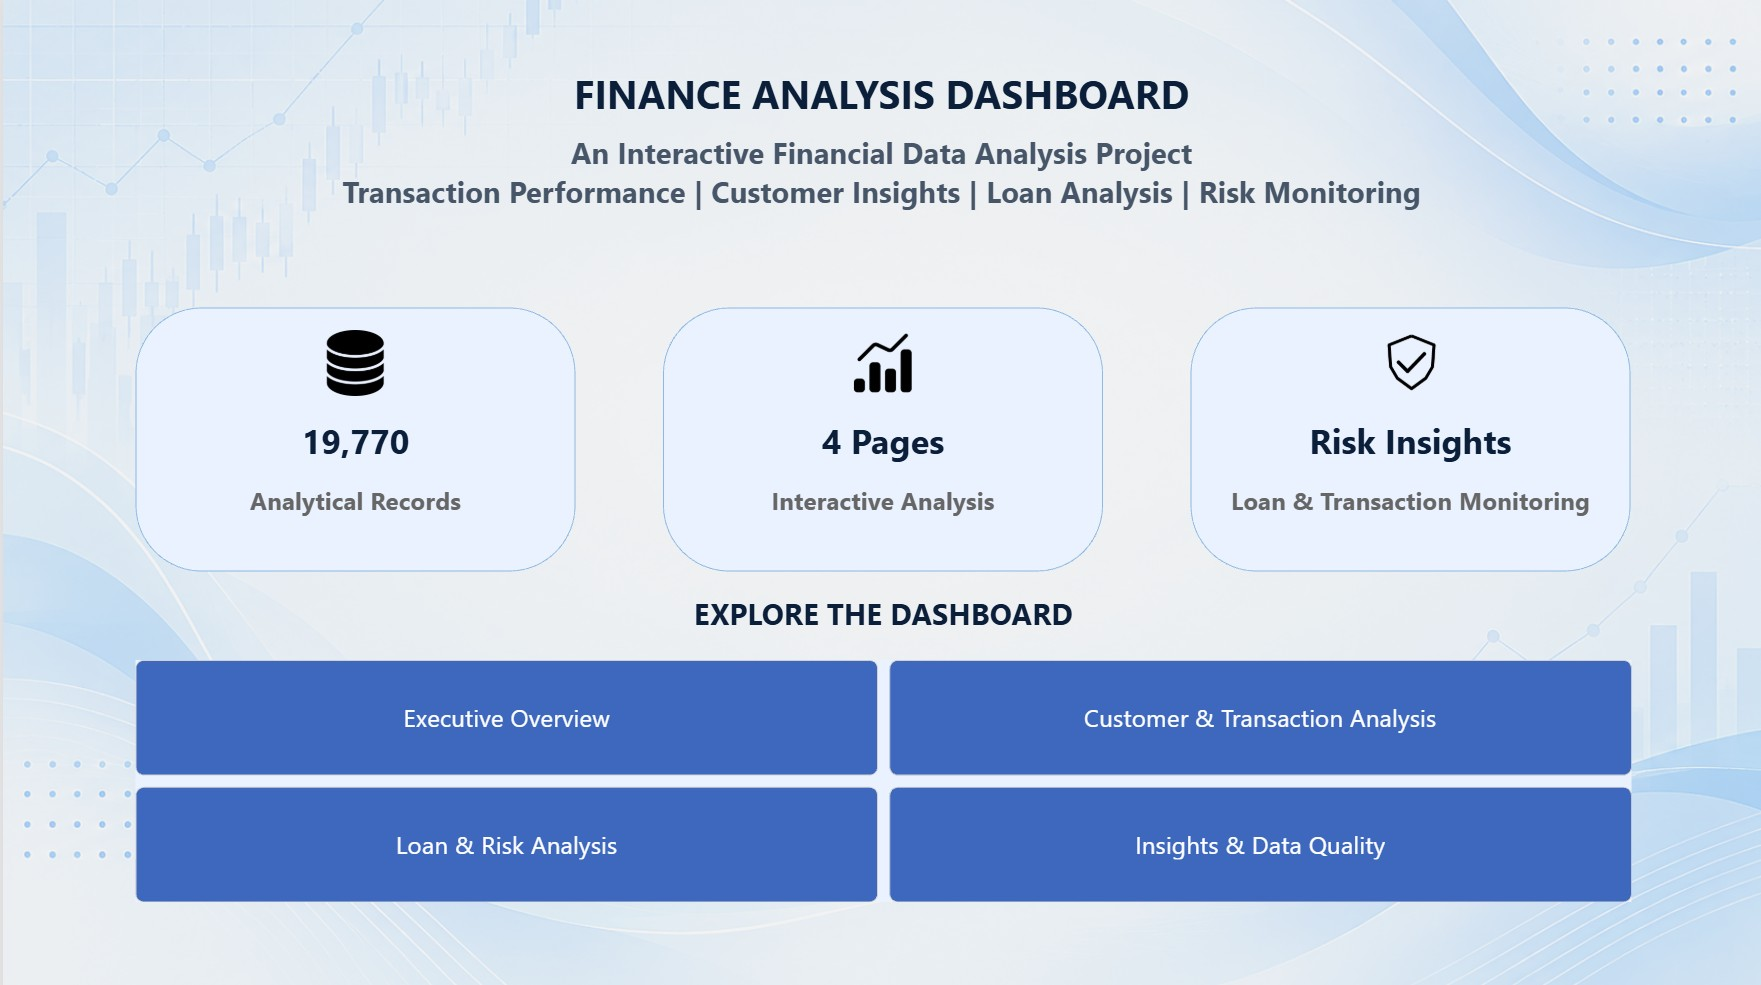

What the dashboard file says about the page in this screenshot:
{"tool":"powerbi","page":{"name":"Home","canvas":[1920,1080],"ordinal":0},"visuals":[{"type":"pageNavigator","box":[144,720,1632,264],"z":0},{"type":"textbox","box":[144,72,1628,150],"z":1000},{"type":"textbox","box":[144,144,1628,150],"z":2000},{"type":"shape","box":[144,336,480,288],"z":3000},{"type":"shape","box":[720,336,480,288],"z":4000},{"type":"shape","box":[1296,336,480,288],"z":5000},{"type":"textbox","box":[144,528,480,48],"z":6000},{"type":"textbox","box":[144,456,480,72],"z":7000},{"type":"image","box":[312,360,144,72],"z":8000},{"type":"textbox","box":[720,528,480,48],"z":9000},{"type":"textbox","box":[720,456,480,72],"z":10000},{"type":"image","box":[888,360,144,72],"z":11000},{"type":"textbox","box":[1296,528,480,48],"z":12000},{"type":"textbox","box":[1296,456,480,72],"z":13000},{"type":"image","box":[1464,360,144,72],"z":14000},{"type":"textbox","box":[144,648,1632,48],"z":15000}]}

Visuals, with their boxes in screenshot pixels (x1, y1, x2, y2), scaled from the page's 1920x1080 canvas onto the 1761x985 screenshot:
pageNavigator: 132 657 1629 897
textbox: 132 66 1625 202
textbox: 132 131 1625 268
shape: 132 306 572 569
shape: 660 306 1101 569
shape: 1189 306 1629 569
textbox: 132 482 572 525
textbox: 132 416 572 482
image: 286 328 418 394
textbox: 660 482 1101 525
textbox: 660 416 1101 482
image: 814 328 947 394
textbox: 1189 482 1629 525
textbox: 1189 416 1629 482
image: 1343 328 1475 394
textbox: 132 591 1629 635
